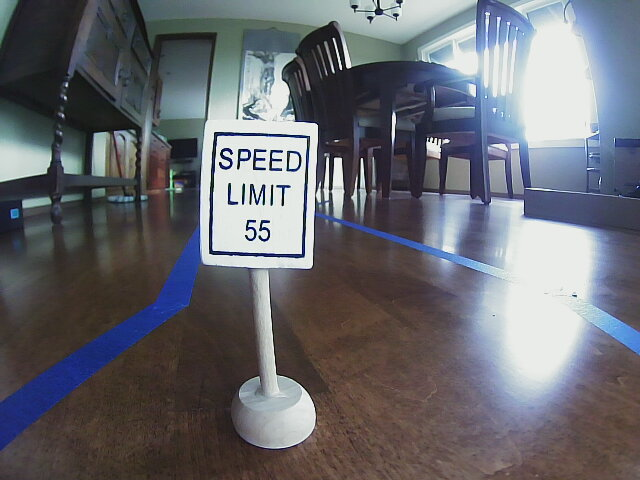SpeedLimit55: (204, 121, 308, 263)
